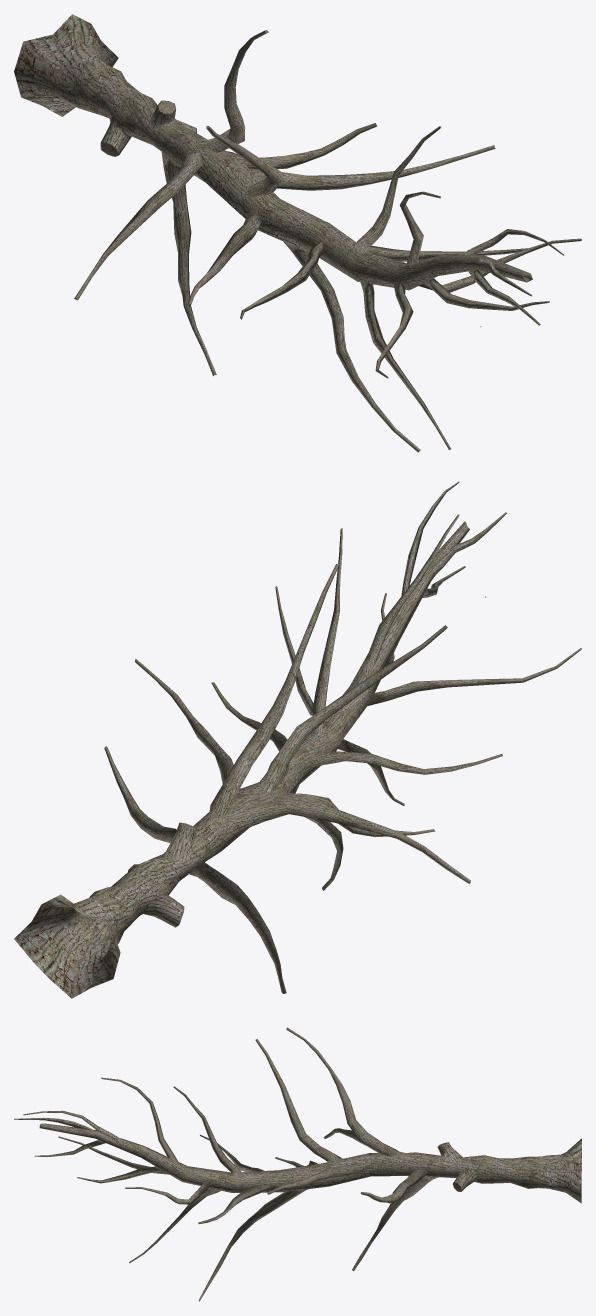
The model's file is tronco.obj.
3 views of the same model, one above another, from view 1: azimuth 30°, elevation 25°; view 2: azimuth 150°, elevation 25°; view 3: azimuth 270°, elevation 25° (orthographic). The views are drawn at different scales.
Visible parts, largest first — view 1: Broadleaf_Low; view 2: Broadleaf_Low; view 3: Broadleaf_Low.
Part boxes in pixels (x1,y1,x2,y2): Broadleaf_Low: [14, 14, 581, 452]; Broadleaf_Low: [14, 481, 581, 998]; Broadleaf_Low: [14, 1027, 581, 1301].
Bounding box in the file's own units: 7.03 × 7.01 × 14.54.
